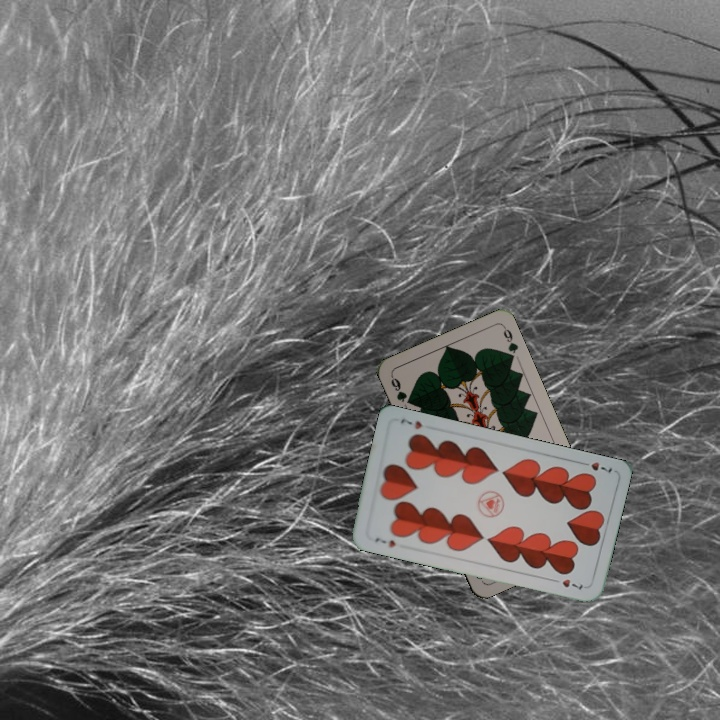G9: (387, 372, 415, 407)
H7: (576, 458, 615, 475), (371, 533, 398, 550)
